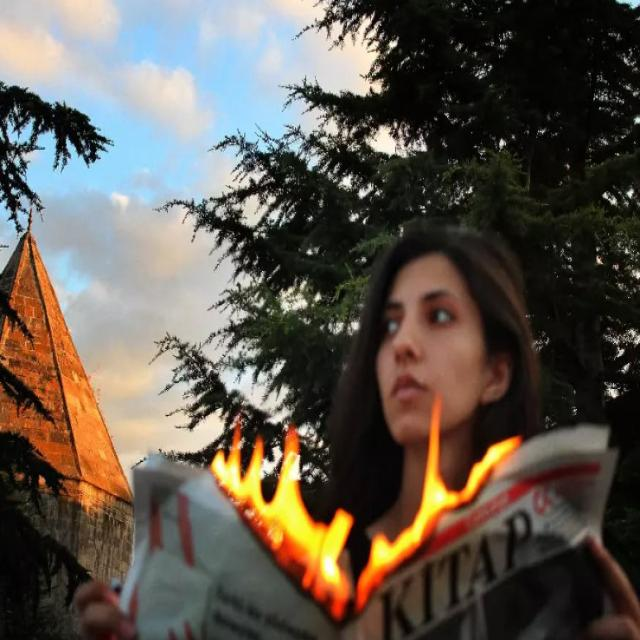fire: (356, 394, 521, 614), (209, 422, 354, 621)
